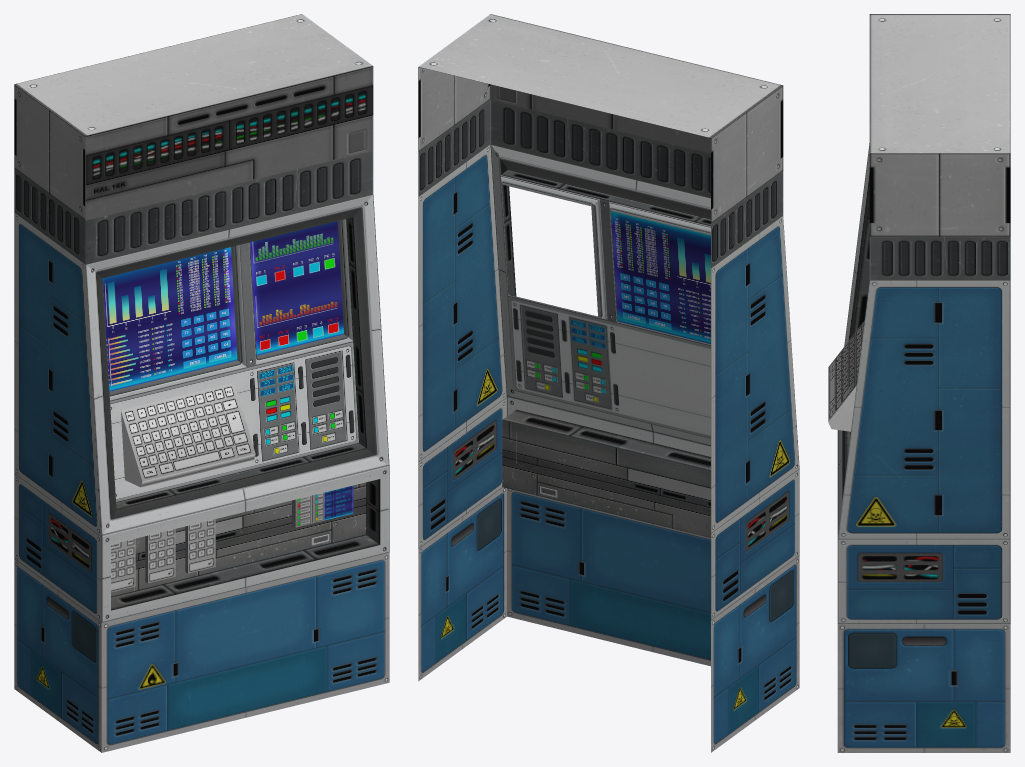
The model's file is Console_Panel_Vert_01.FBX.
3 renders of one model, left to right at view 1: azimuth 30°, elevation 25°; view 2: azimuth 150°, elevation 25°; view 3: azimuth 270°, elevation 25°, orthographic. The views are drawn at different scales.
Visible parts, largest first — view 1: Console_Panel_Vert_01, Screen_Left, Screen_Right; view 2: Console_Panel_Vert_01, Screen_Left; view 3: Console_Panel_Vert_01.
Boxes of the visible parts, bbox=[...] form: Console_Panel_Vert_01: bbox=[14, 14, 389, 752]; Screen_Left: bbox=[102, 247, 237, 391]; Screen_Right: bbox=[250, 221, 353, 520]; Console_Panel_Vert_01: bbox=[418, 14, 799, 752]; Screen_Left: bbox=[610, 211, 710, 343]; Console_Panel_Vert_01: bbox=[828, 14, 1010, 752].
Size of the model in its own units: 54.9 by 110 by 30.4.
